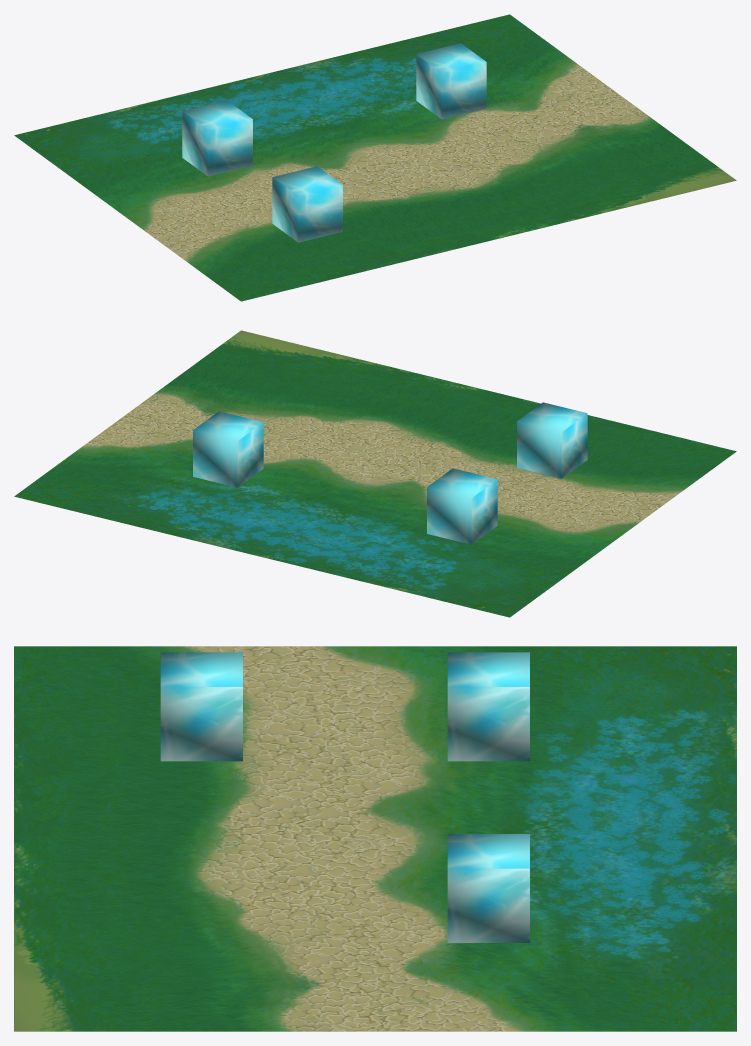
Rendered from Cube-3 and Plane.fbx.
The picture shows the model from 3 angles, top to bottom: view 1: azimuth 30°, elevation 25°; view 2: azimuth 150°, elevation 25°; view 3: azimuth 270°, elevation 25°; orthographic projection. The views are drawn at different scales.
Visible parts, largest first — view 1: polySurface1779; view 2: polySurface1779; view 3: polySurface1779.
Boxes of the visible parts, left/top/right/bottom form: polySurface1779: left=14, top=14, right=736, bottom=301; polySurface1779: left=14, top=330, right=736, bottom=617; polySurface1779: left=14, top=646, right=736, bottom=1031.
Bounding box in the file's own units: 69.81 × 6.3 × 55.38.
Materials: 2 (2 with a texture image).
